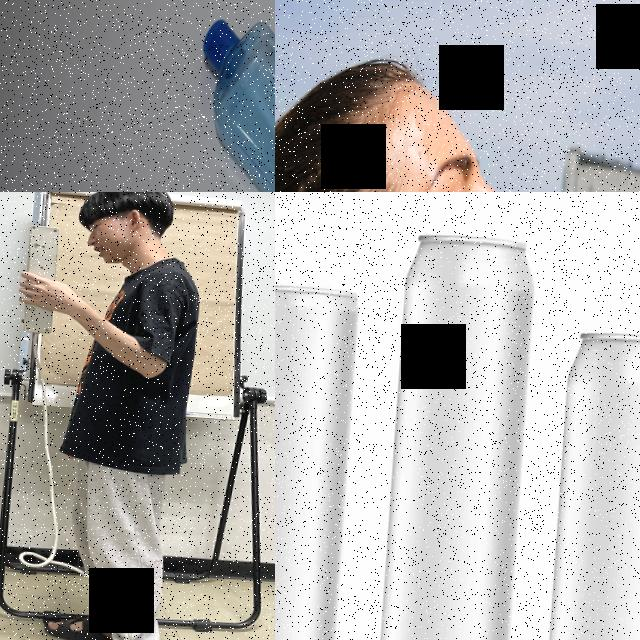bottle: (182, 14, 275, 192)
can: (367, 226, 540, 640), (535, 327, 640, 640), (275, 276, 365, 640)
